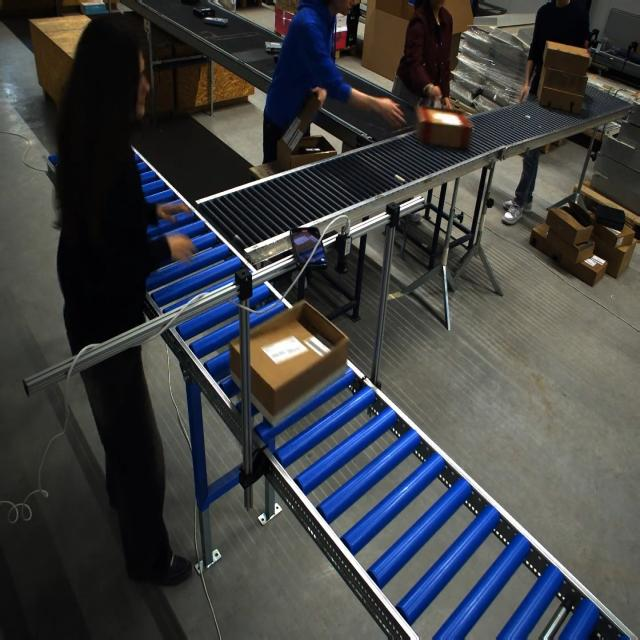box: (229, 301, 343, 423), (279, 90, 322, 152), (416, 108, 473, 151), (274, 134, 333, 171)
product: (202, 17, 228, 27), (193, 7, 215, 18), (264, 42, 282, 54)
